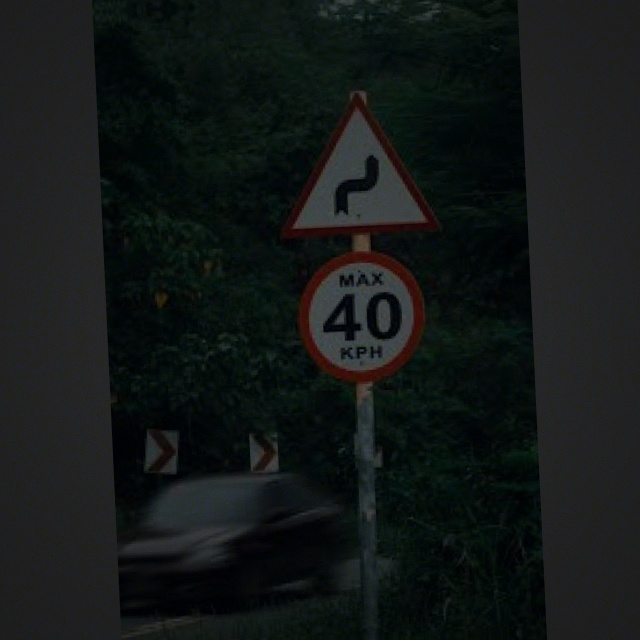Speed_Limit_40: (298, 247, 430, 389)
